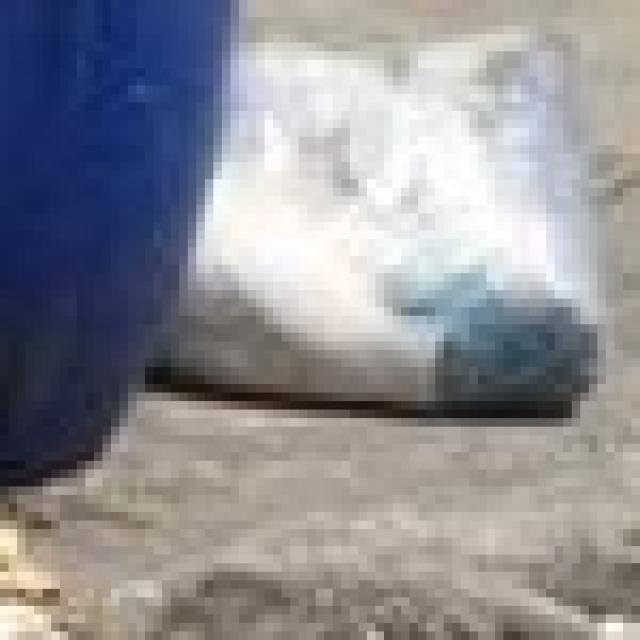plastic bag: (77, 0, 640, 482)
